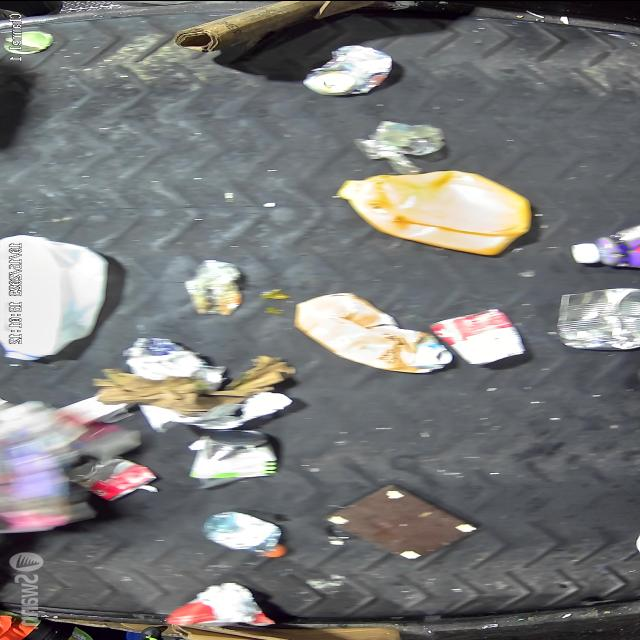can: (556, 287, 640, 350), (302, 44, 394, 96), (190, 428, 278, 478)
milk_jug: (0, 232, 109, 359)
non_white_jug: (336, 169, 531, 257), (294, 291, 452, 373)
plastic_bottle: (202, 509, 288, 557), (571, 224, 640, 267)
